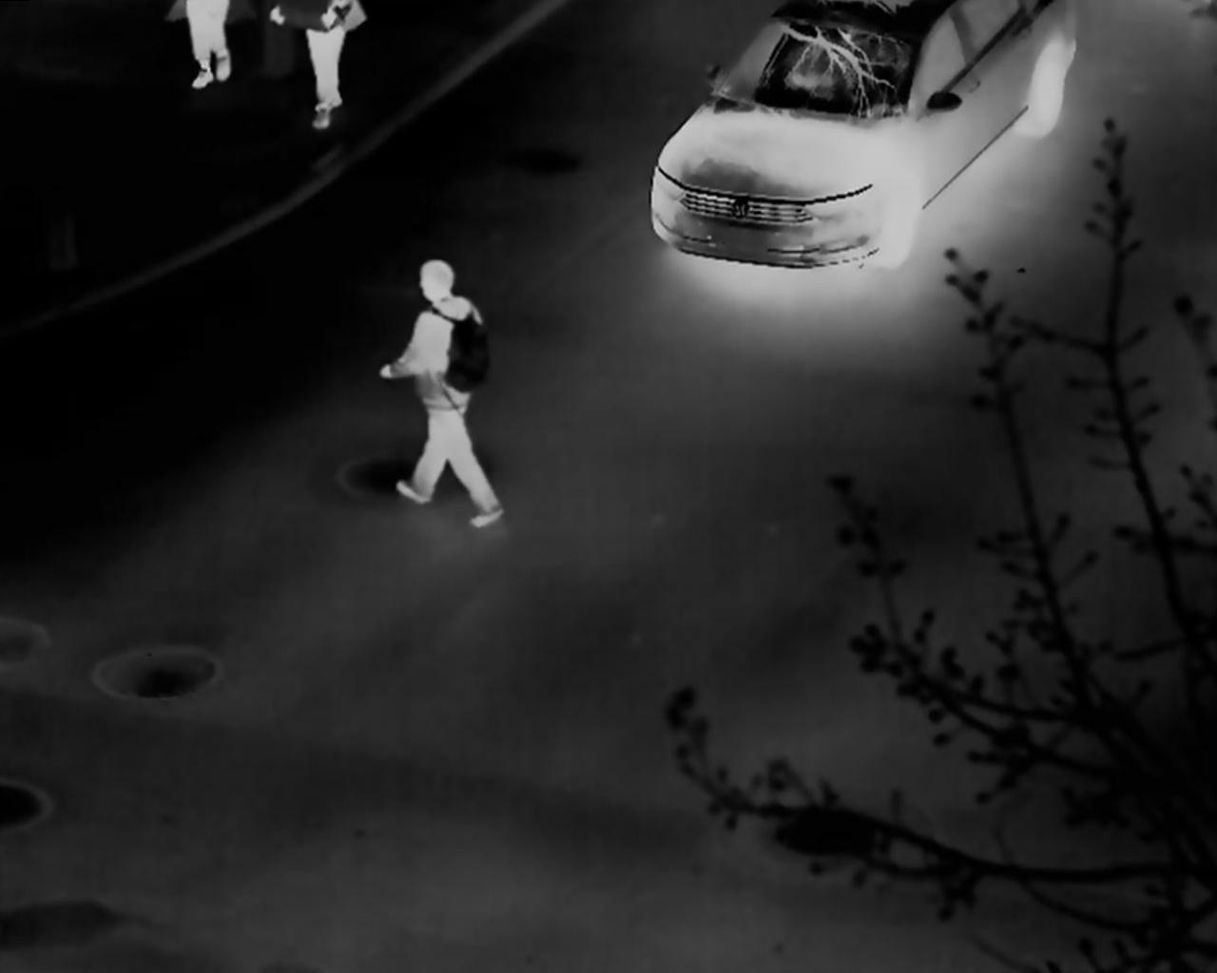person: (378, 258, 507, 533)
